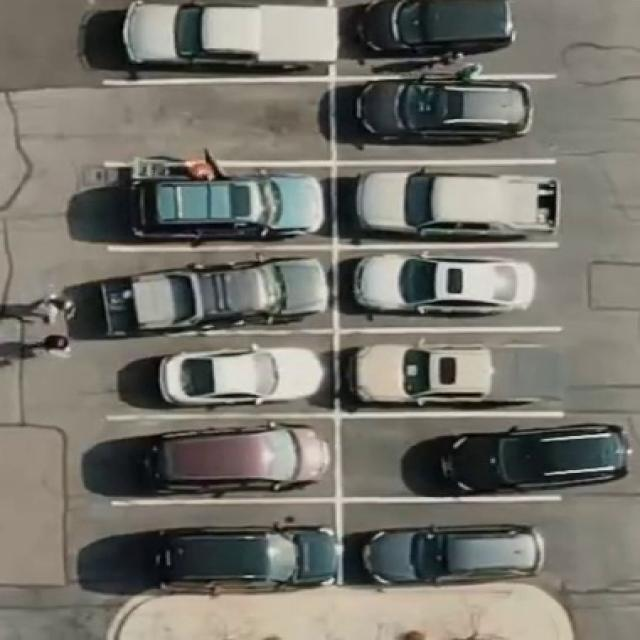empty: (112, 88, 322, 154)
notEmpty: (345, 253, 566, 323), (347, 421, 562, 492), (110, 423, 327, 493), (354, 339, 572, 408), (344, 1, 550, 74), (112, 4, 319, 72), (114, 256, 321, 323), (122, 344, 322, 412), (355, 171, 561, 237), (113, 176, 329, 237), (119, 520, 325, 582), (357, 516, 547, 582), (348, 86, 547, 149)
